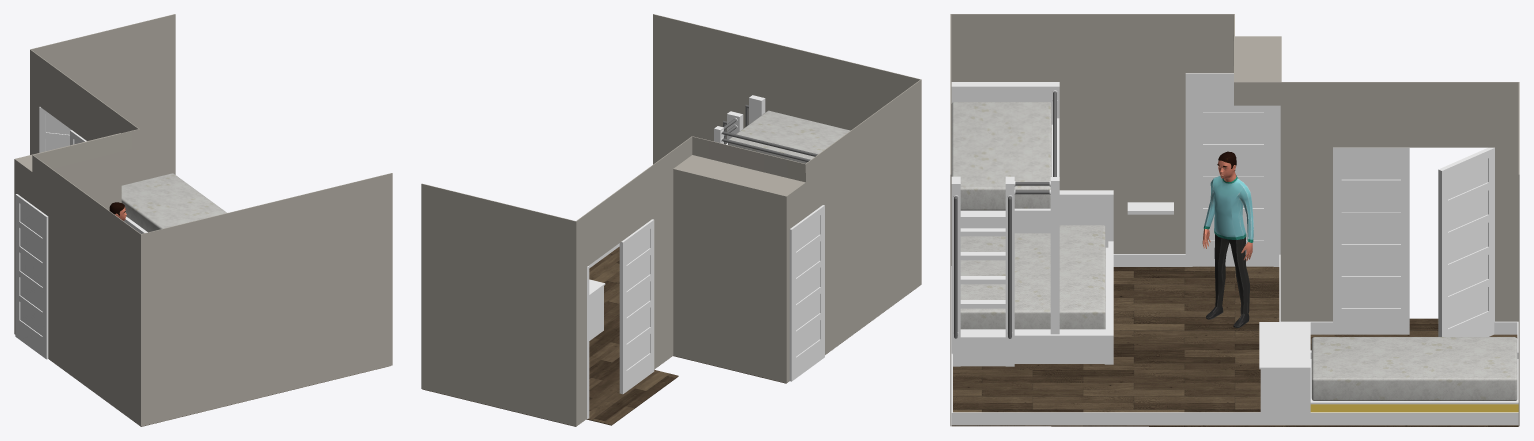
The model's file is scene-1-bunk.glb.
The picture shows the model from 3 angles, left to right: view 1: azimuth 30°, elevation 25°; view 2: azimuth 150°, elevation 25°; view 3: azimuth 270°, elevation 25°; orthographic projection. The views are drawn at different scales.
Parts seen in each view (by area): view 1: innerWall.001, innerWall, innerWall.002, Cube.004, mattress-twin-xl, Cube.001; view 2: innerWall, innerWall.002, innerWall.001, floor, Cube.004, Cube.006, twin-mattress, foot-shelf-left; view 3: innerWall, floor, Cube.006, mattress-twin-xl, queen-queen, Cube.004, Cube.001, twin-mattress, floor.001, Human 2, Plane.002, foot-shelf-top (+19 smaller).
Part boxes in pixels (x1,y1,x2,y2): innerWall.001: (141,173,392,426); innerWall: (14,49,141,426); innerWall.002: (31,14,175,185); Cube.004: (15,194,48,359); mattress-twin-xl: (121,173,226,232); Cube.001: (39,107,71,152); innerWall: (575,79,921,426); innerWall.002: (421,183,575,426); innerWall.001: (653,14,920,164); floor: (422,246,786,426); Cube.004: (789,205,824,381); Cube.006: (619,219,654,394); twin-mattress: (728,110,850,163); foot-shelf-left: (589,286,603,340); innerWall: (950,14,1519,321); floor: (951,266,1518,426); Cube.006: (1333,147,1409,334); mattress-twin-xl: (1311,337,1517,400); queen-queen: (960,225,1105,329); Cube.004: (1192,80,1273,266); Cube.001: (1438,147,1494,336); twin-mattress: (951,102,1051,210); floor.001: (951,254,1518,425); Human 2: (1202,151,1253,327); Plane.002: (1185,73,1280,266); foot-shelf-top: (1259,322,1310,369).
Size of the model in its own units: 3.78 by 2.75 by 5.62.
Materials: 18 (6 with a texture image).
